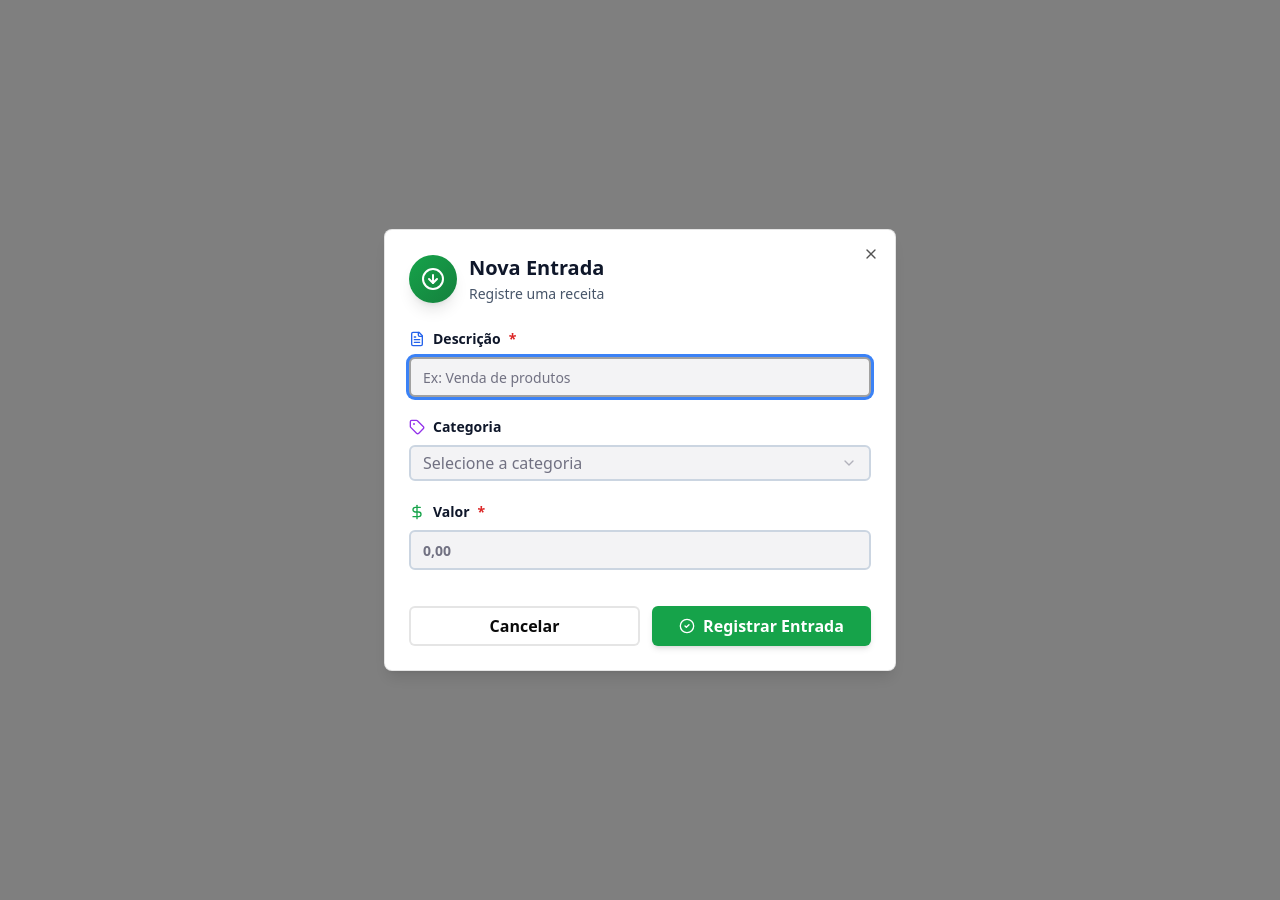
Scenario: NewTransactionDialog › Campos do formulário › exibe categorias de entrada quando type é income
The image size is (1280, 900).
Click the dropdown: (503, 463) [409,445,871,481]
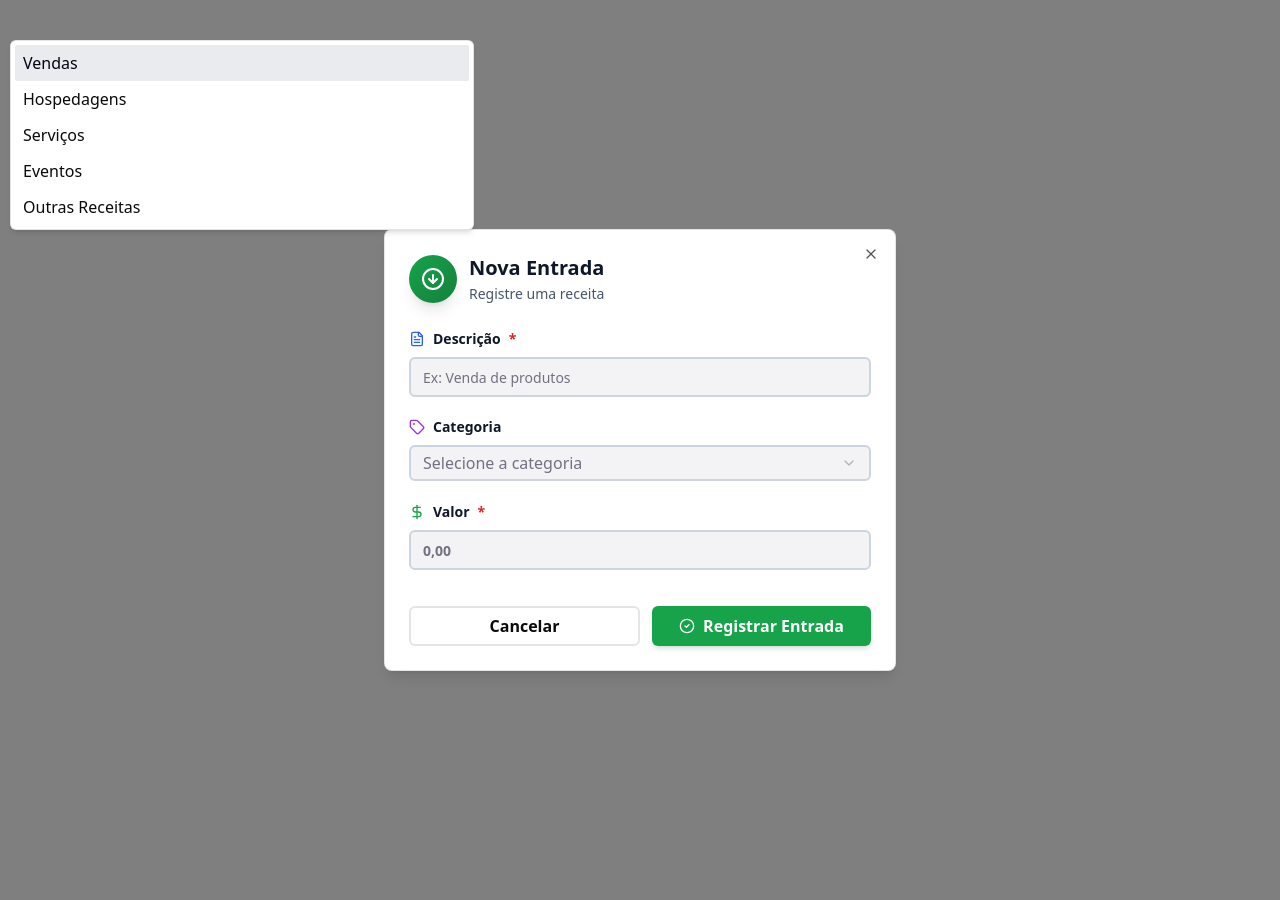
Check: the text "Vendas" is shown, box [23,51,78,75]
Check: the text "Hospedagens" is shown, box [23,87,126,111]
Check: the text "Serviços" is shown, box [23,123,85,147]
